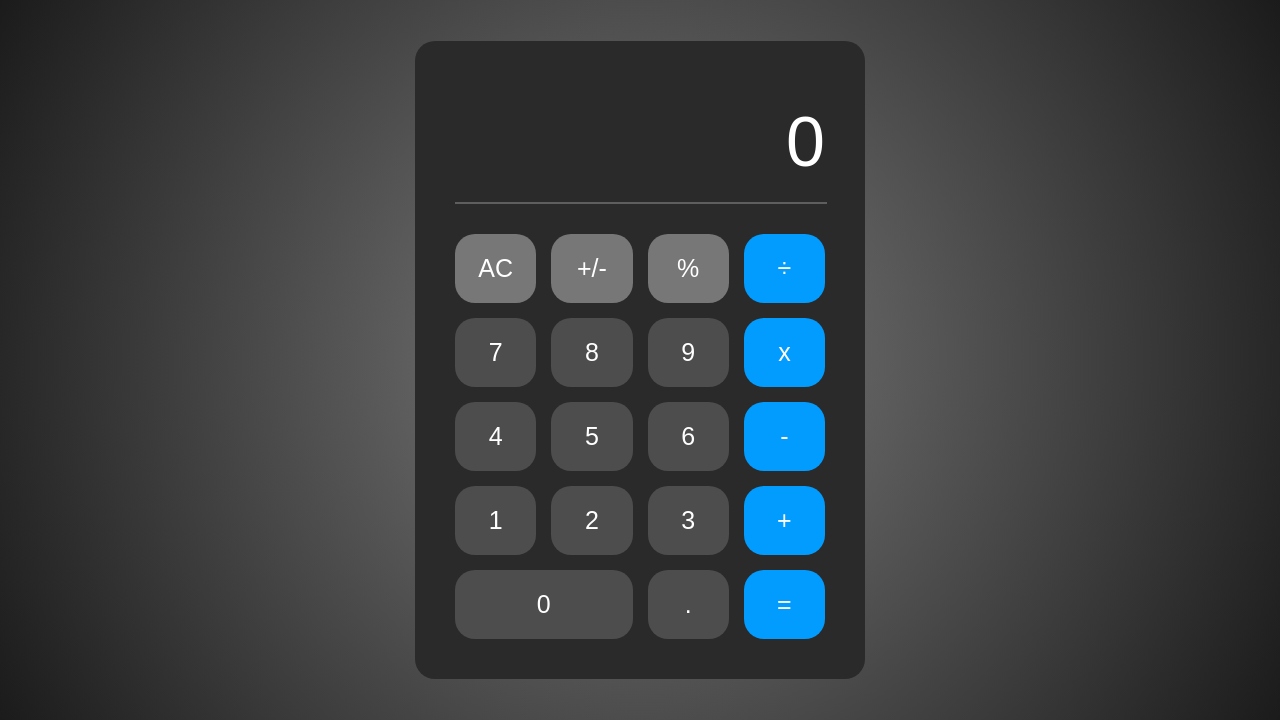
Test: Componente calculadora › Evitar resultados negativos.
The image size is (1280, 720).
// simular acciones
Click the button "2" at (592, 520), box [551,486,633,555]
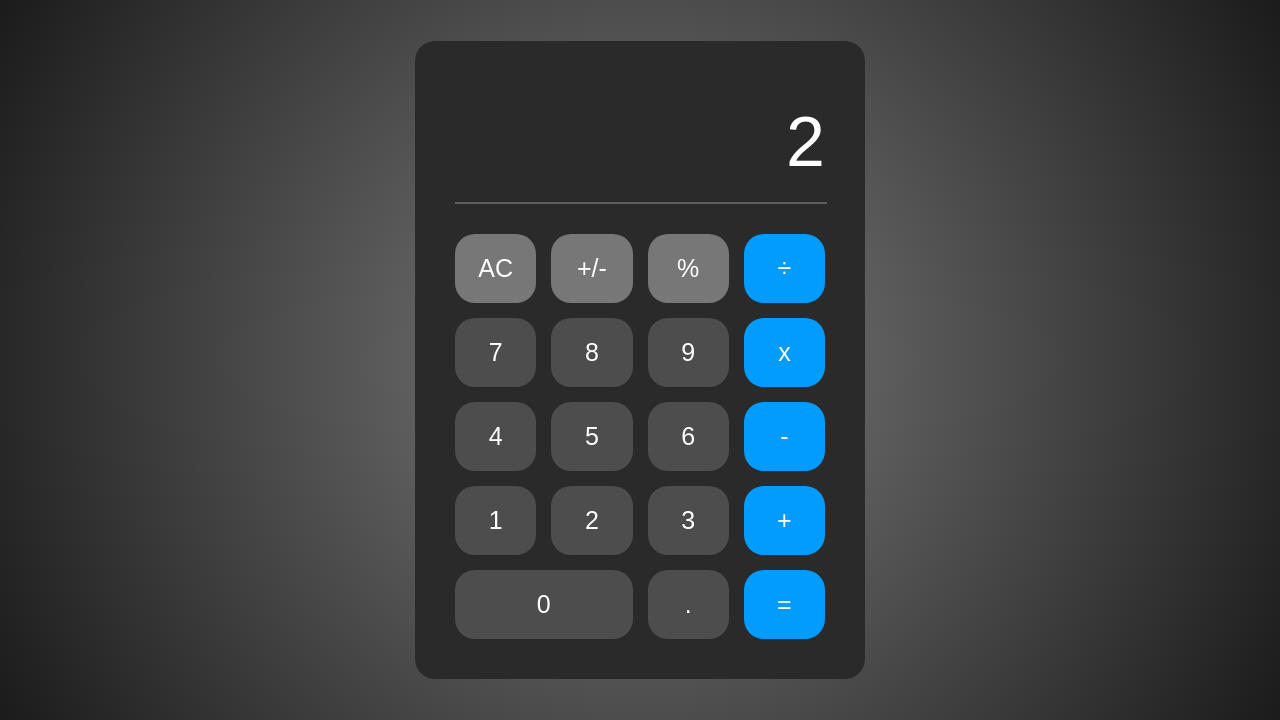
Click the button "-" at (784, 436), box [744,402,825,471]
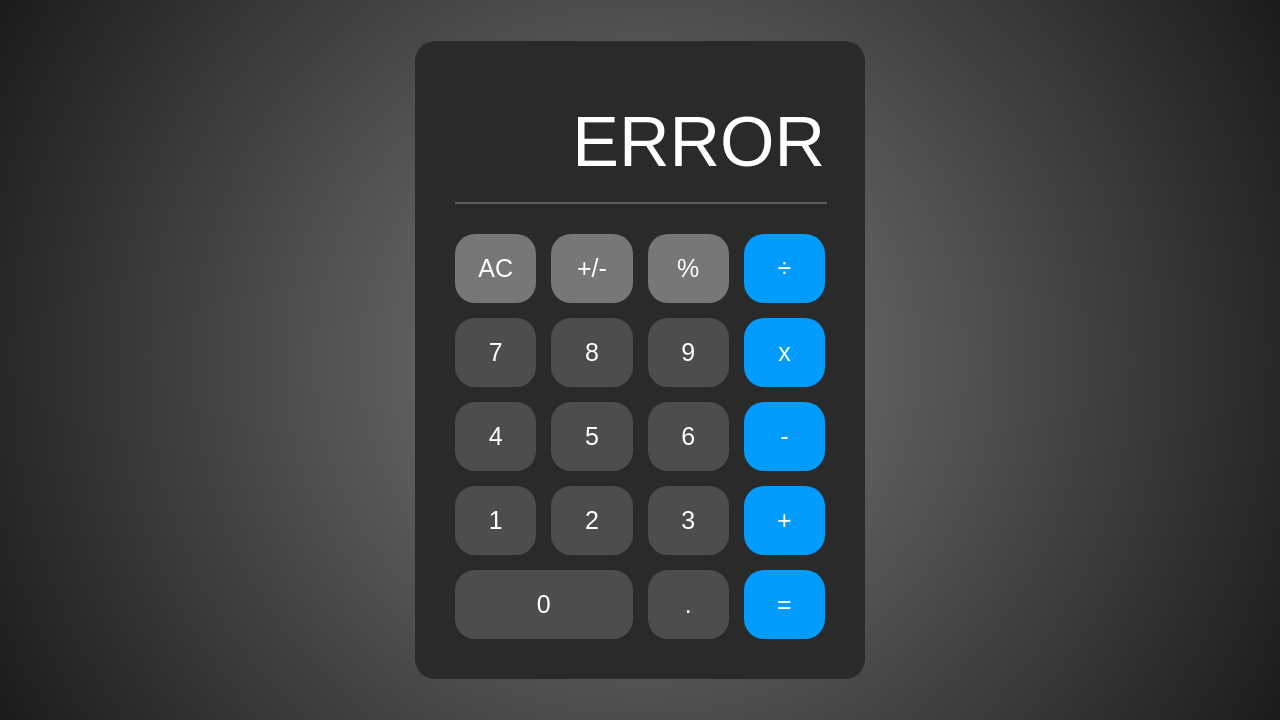
Click the button "3" at (688, 520), box [648,486,729,555]
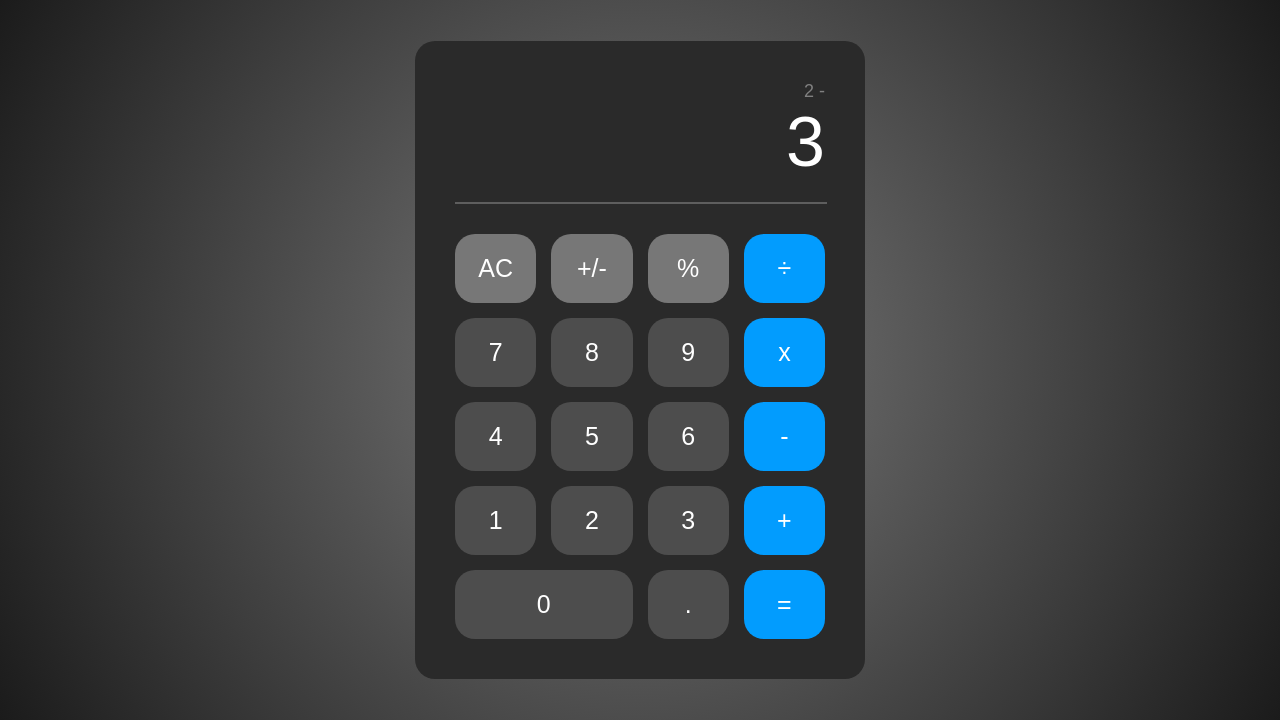
Click the button "=" at (784, 604), box [744,570,825,639]
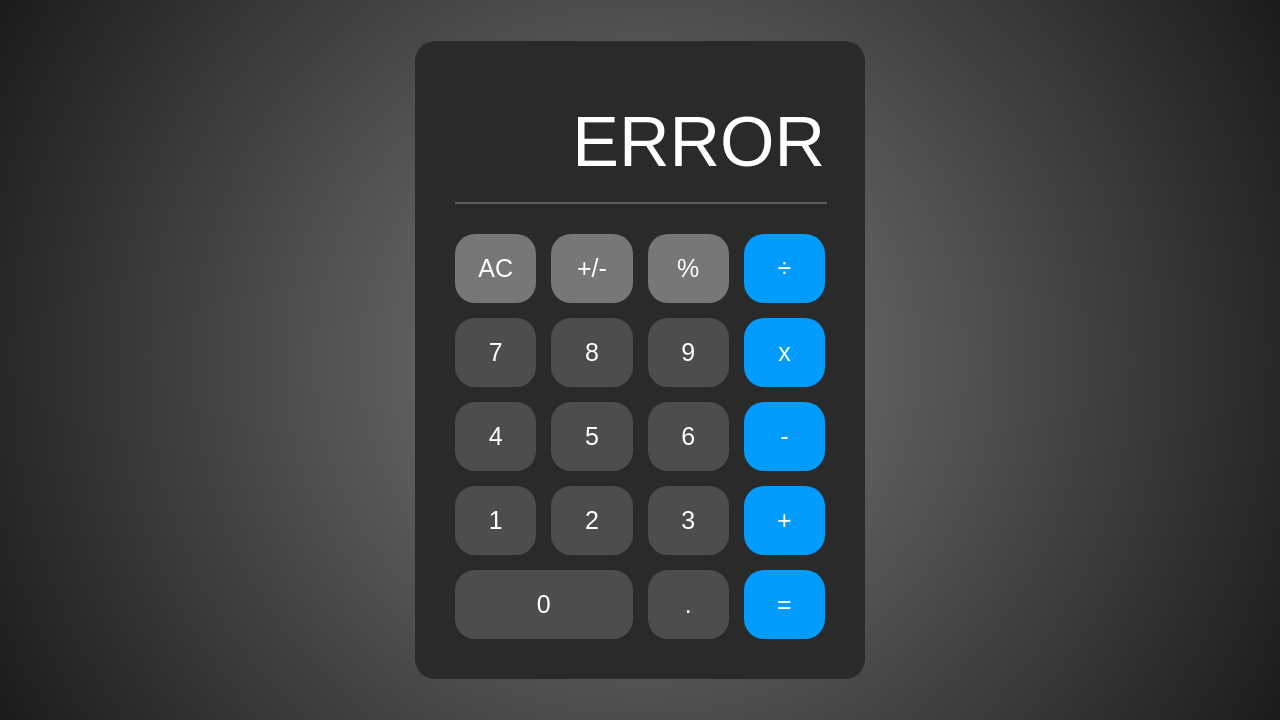
Now the text with test id "display" reads "ERROR", box [572,103,825,181]
